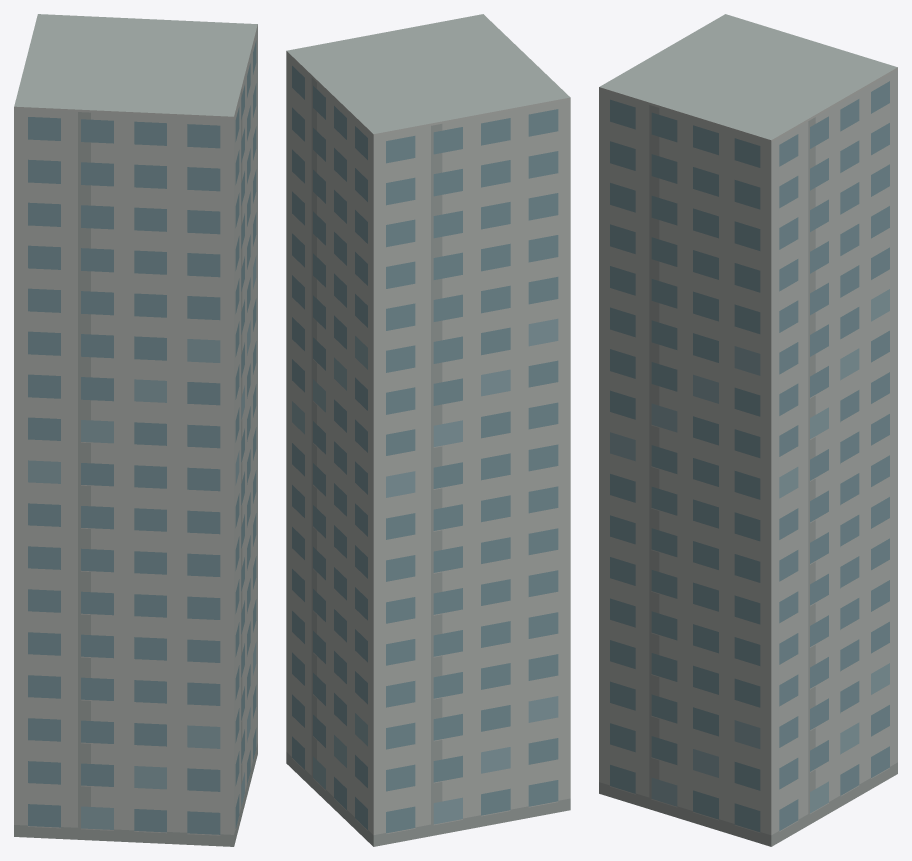
File: residential-dcaf2651-80e8-4d51-ad77-0093606cb4c8.glb
3 views of the same model, side by side, from view 1: azimuth 30°, elevation 25°; view 2: azimuth 150°, elevation 25°; view 3: azimuth 270°, elevation 25° (orthographic). The views are drawn at different scales.
Parts seen in each view (by area): view 1: residential-dcaf2651-80e8-4d51-ad77-0093606cb4c8.tmp; view 2: residential-dcaf2651-80e8-4d51-ad77-0093606cb4c8.tmp; view 3: residential-dcaf2651-80e8-4d51-ad77-0093606cb4c8.tmp.
Boxes of the visible parts, left/top/right/bottom form: residential-dcaf2651-80e8-4d51-ad77-0093606cb4c8.tmp: left=14, top=14, right=257, bottom=846; residential-dcaf2651-80e8-4d51-ad77-0093606cb4c8.tmp: left=286, top=14, right=570, bottom=846; residential-dcaf2651-80e8-4d51-ad77-0093606cb4c8.tmp: left=599, top=14, right=897, bottom=846.
Bounding box in the file's own units: 28.75 × 75 × 28.74.
